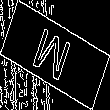M_SW: (32, 23, 78, 87)
